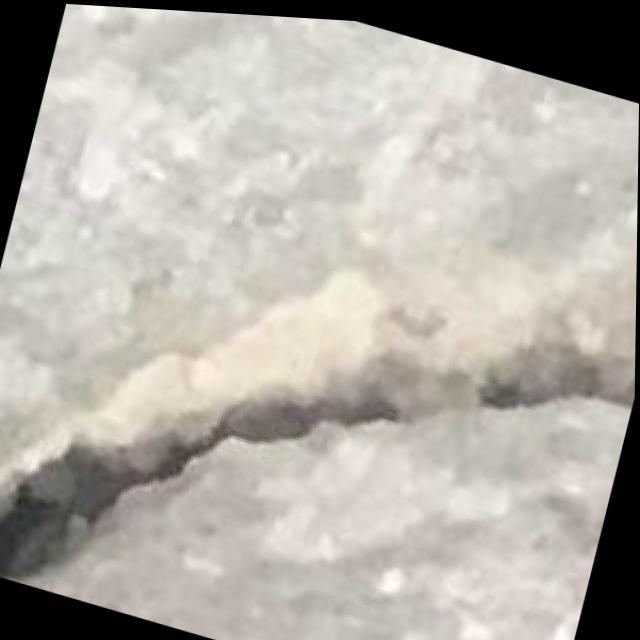Crack: (0, 124, 639, 640)
